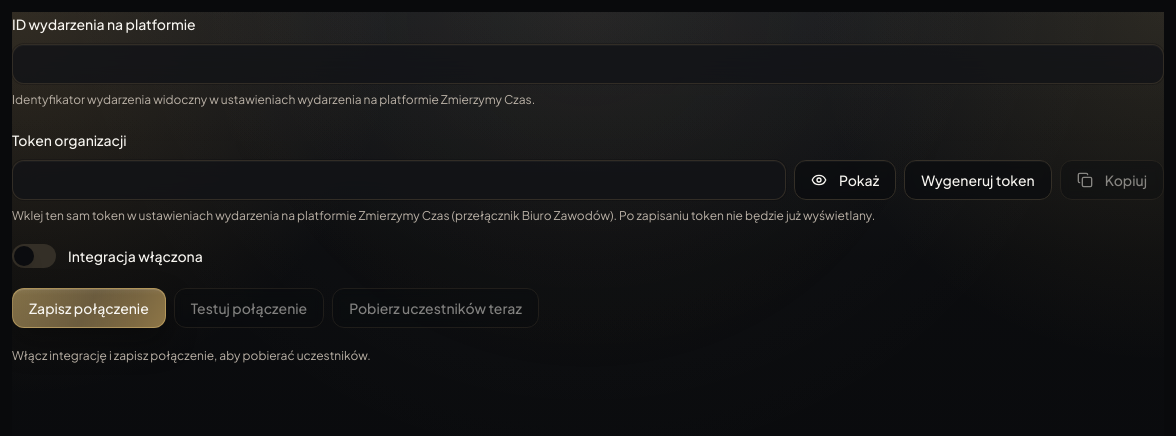
Scenario: EventPlatformConnectionSection › links field errors to inputs for screen readers
The width and height of the screenshot is (1176, 436).
Type "p 1" into the field labelled "ID wydarzenia na platformie" at point(588, 64), box [12, 44, 1164, 84]
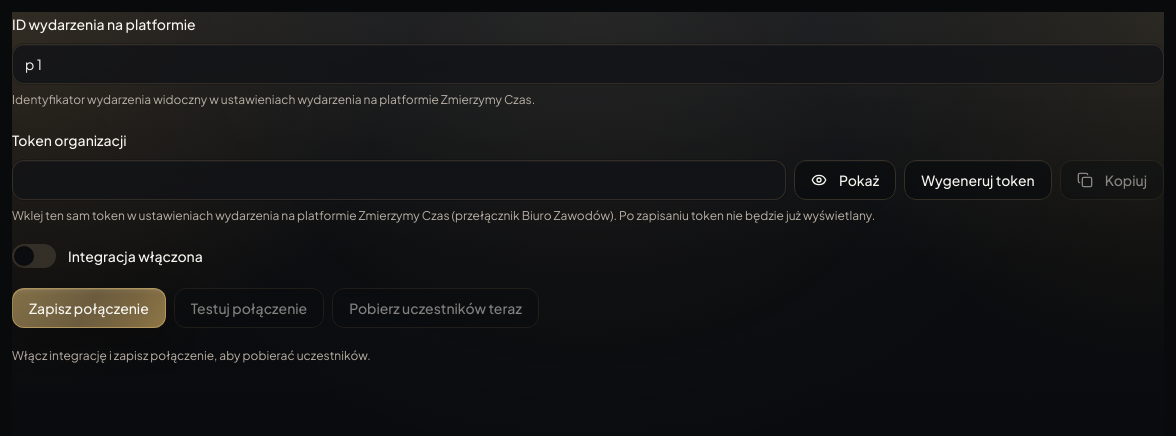
Type "short" into the password field labelled "Token organizacji" at point(399, 180), box [12, 160, 786, 200]
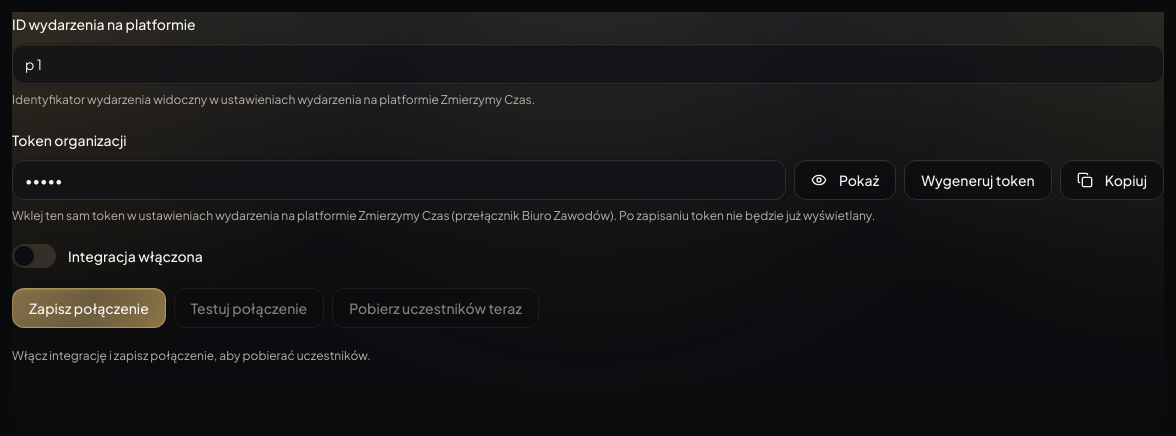
Click the button "Zapisz połączenie" at point(89, 308), box [12, 288, 166, 328]
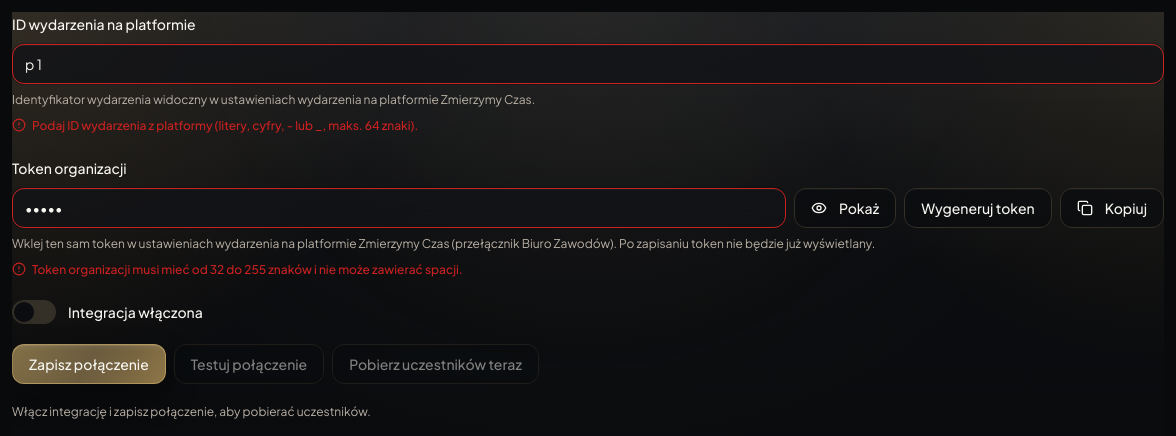
Result: the text "Podaj ID wydarzenia z platformy" is shown at [32, 118, 418, 133]
